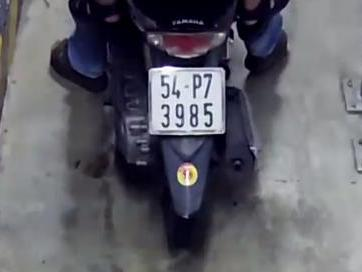num_plate: (145, 67, 227, 136)
